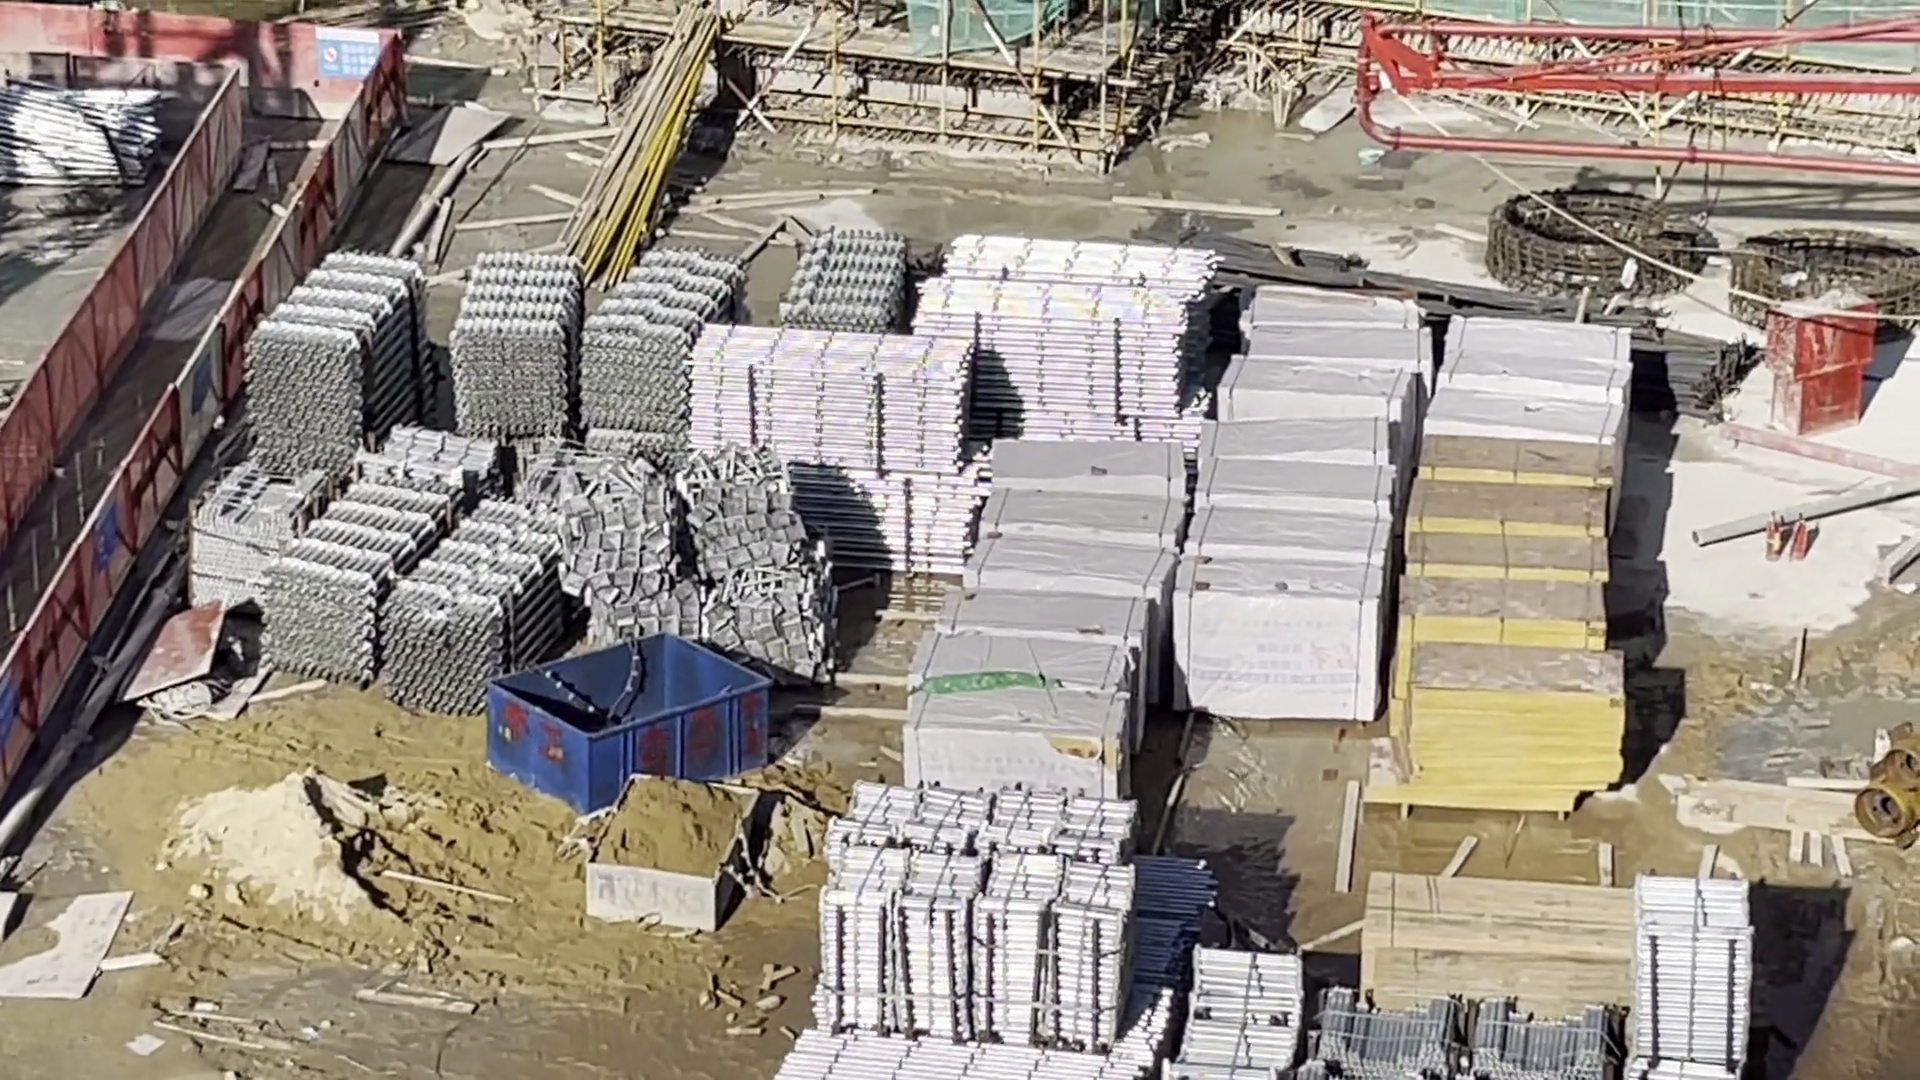board: (1389, 438, 1602, 815), (1366, 870, 1638, 1010)
fence: (5, 83, 375, 789), (1, 4, 315, 117)
hopper: (489, 633, 769, 815), (585, 774, 760, 931)
rebar: (1204, 223, 1742, 414)
scaffold: (819, 789, 1124, 1048), (684, 320, 971, 583), (272, 472, 567, 712), (913, 233, 1213, 451), (459, 247, 740, 446), (247, 249, 431, 456), (1308, 988, 1607, 1080), (1633, 880, 1749, 1080), (1166, 949, 1309, 1080), (770, 1030, 1154, 1079), (1, 90, 158, 189), (789, 229, 913, 339)
slogan: (313, 26, 381, 80), (96, 496, 119, 574), (1, 671, 17, 742)
